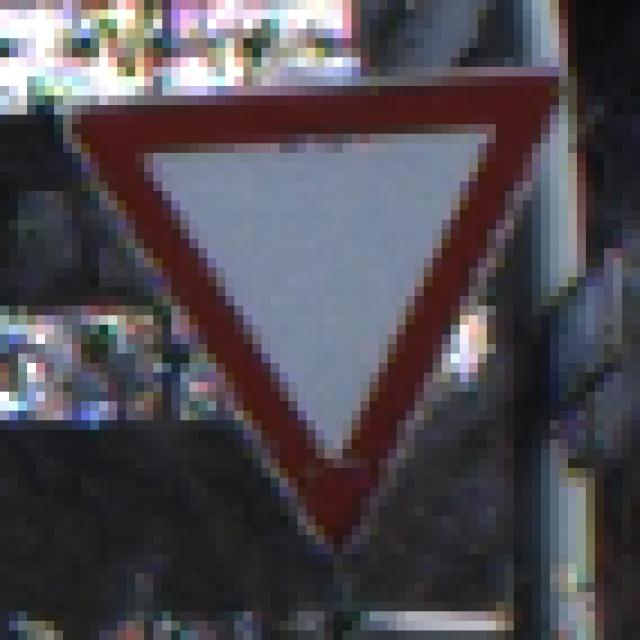Give Way: (55, 58, 587, 584)
